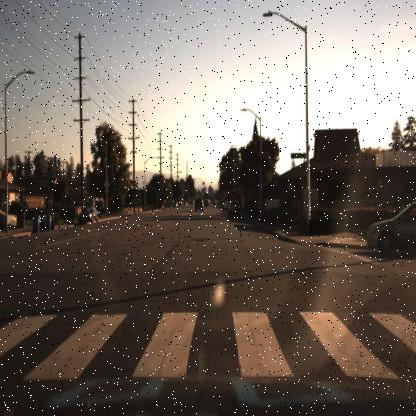car: (366, 202, 415, 258), (72, 199, 101, 228), (73, 203, 99, 227), (227, 198, 242, 221), (191, 195, 206, 217)
